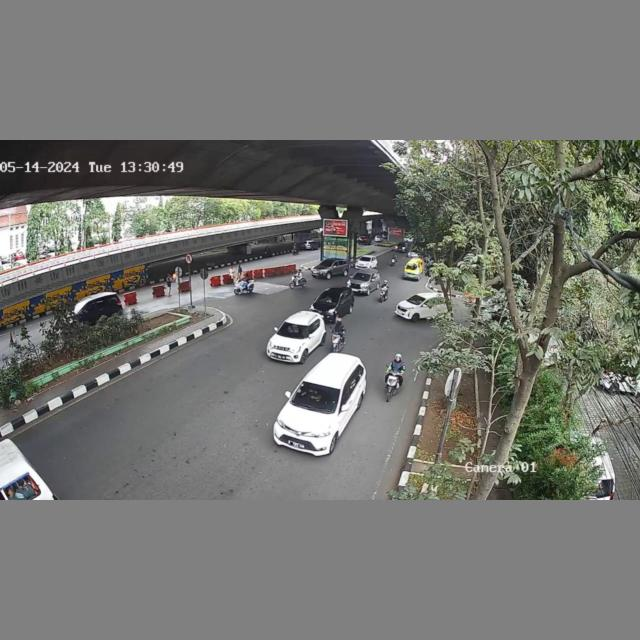windshield: (290, 380, 341, 414), (278, 322, 307, 338)
